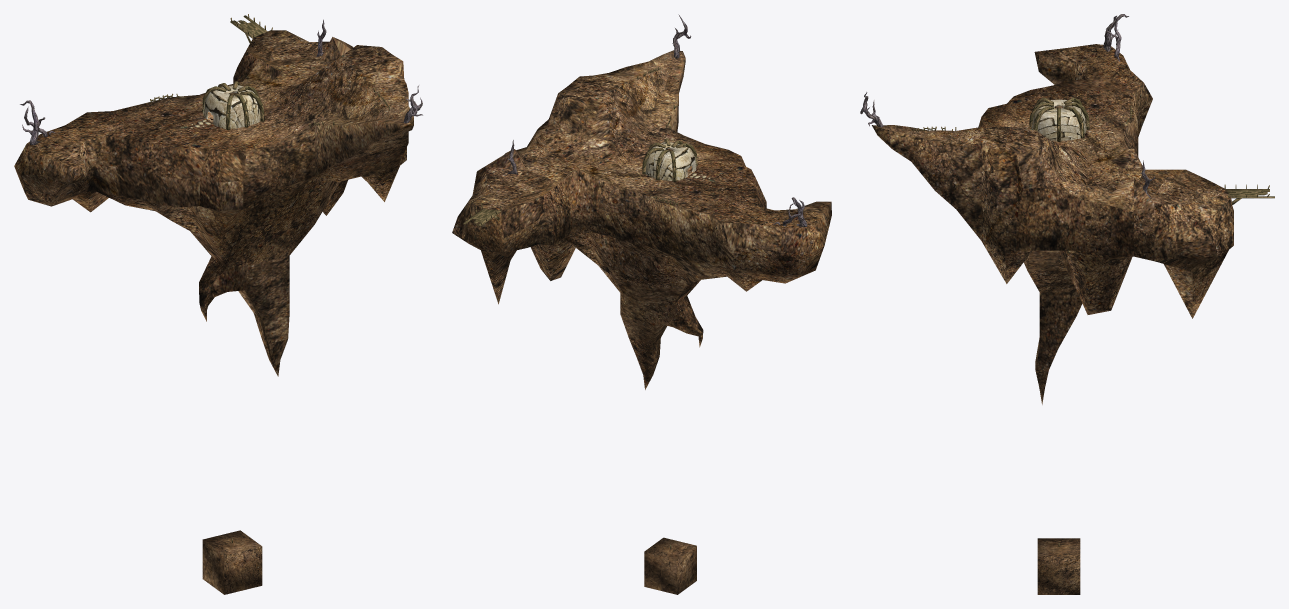
File: mysthome.obj
3 views of the same model, side by side, from view 1: azimuth 30°, elevation 25°; view 2: azimuth 150°, elevation 25°; view 3: azimuth 270°, elevation 25° (orthographic). The views are drawn at different scales.
Visible parts, largest first — view 1: Land_Cube.002, PIllarcube_Cube.004, Home.001_Cube.028; view 2: Land_Cube.002, PIllarcube_Cube.004, Home.001_Cube.028; view 3: Land_Cube.002, PIllarcube_Cube.004, Home.001_Cube.028.
Part boxes in pixels (x1,y1,x2,y2): Land_Cube.002: (14,30,413,376); PIllarcube_Cube.004: (202,530,262,594); Home.001_Cube.028: (203,85,260,128); Land_Cube.002: (452,50,831,389); PIllarcube_Cube.004: (644,537,696,594); Home.001_Cube.028: (645,142,696,180); Land_Cube.002: (872,44,1233,404); PIllarcube_Cube.004: (1037,538,1080,594); Home.001_Cube.028: (1031,99,1086,140).
Size of the model in its own units: 19.15 by 27.74 by 19.4.
11 materials, 11 textured.
